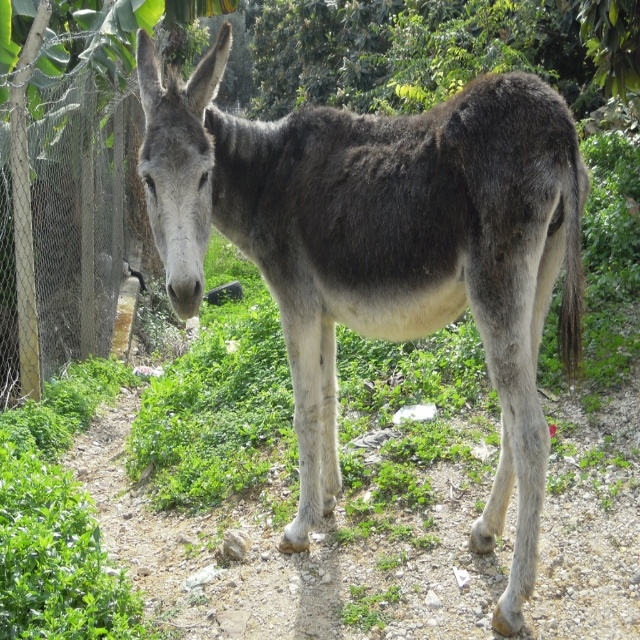Mule: (135, 19, 591, 637)
